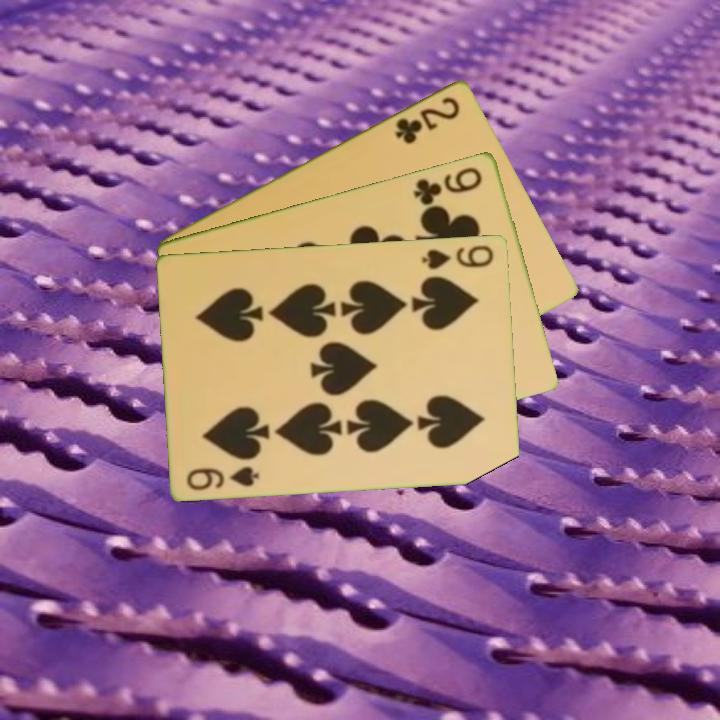2c: (391, 93, 463, 147)
9c: (410, 163, 486, 208)
9s: (183, 462, 263, 493), (419, 241, 497, 272)
